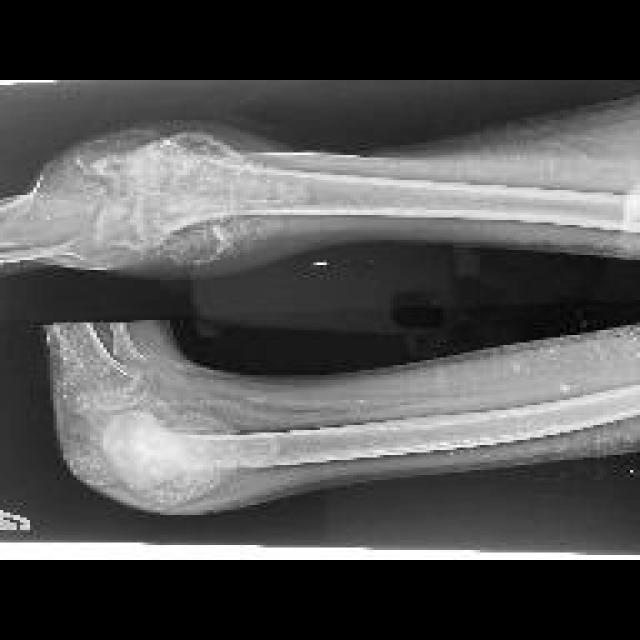bone-cancer: (37, 127, 255, 264), (63, 396, 276, 505)
